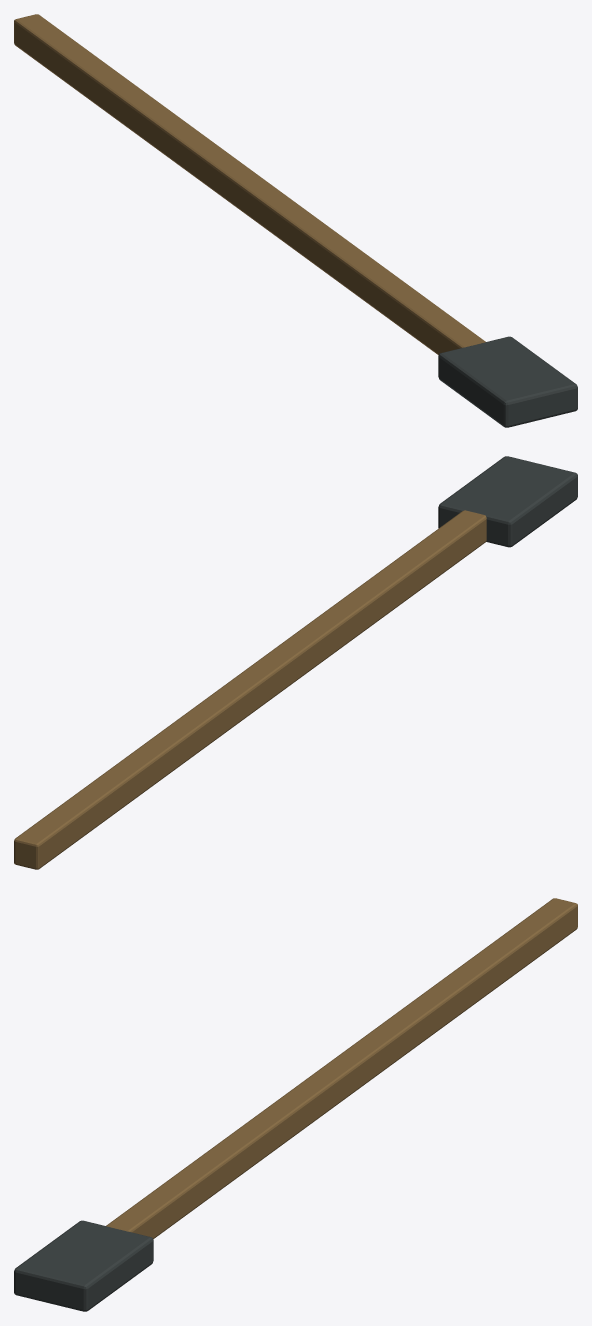
File: arrow_gameplay_LOD2.glb
3 views of the same model, one above another, from view 1: azimuth 30°, elevation 25°; view 2: azimuth 150°, elevation 25°; view 3: azimuth 330°, elevation 25° (orthographic).
Visible parts, largest first — view 1: LOD2_Arrow, LOD2_Head; view 2: LOD2_Arrow, LOD2_Head; view 3: LOD2_Arrow, LOD2_Head.
Boxes of the visible parts, box(x1,y1,x2,y2) form: LOD2_Arrow: box(14, 14, 485, 354); LOD2_Head: box(438, 336, 577, 427); LOD2_Arrow: box(14, 510, 486, 869); LOD2_Head: box(438, 456, 577, 547); LOD2_Arrow: box(106, 898, 577, 1238); LOD2_Head: box(14, 1220, 153, 1311).
Bounding box in the file's own units: 0.1 × 0.035 × 1.21.
